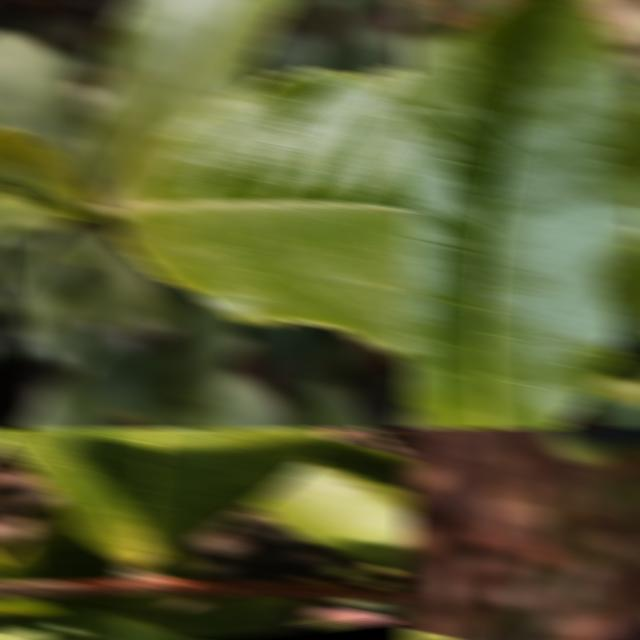Leaf: (403, 0, 640, 429), (106, 67, 415, 354), (0, 427, 338, 575), (91, 0, 296, 199), (253, 440, 415, 573), (0, 502, 129, 582), (0, 124, 98, 220), (0, 597, 64, 614)
